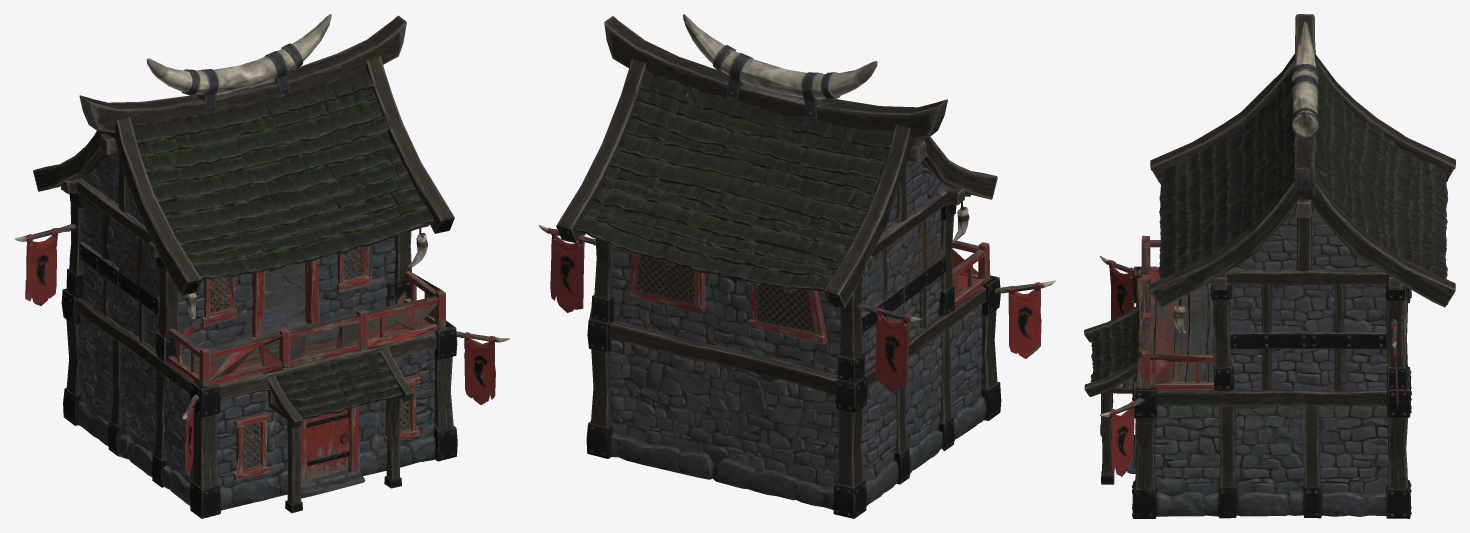
Rendered from house_stone_a.glb.
3 views of the same model, side by side, from view 1: azimuth 30°, elevation 25°; view 2: azimuth 150°, elevation 25°; view 3: azimuth 270°, elevation 25° (orthographic). The views are drawn at different scales.
Visible parts, largest first — view 1: house_stone_a; view 2: house_stone_a; view 3: house_stone_a.
Boxes of the visible parts, x1,y1,x2,y2 form: house_stone_a: (14,14,509,518); house_stone_a: (538,14,1055,518); house_stone_a: (1084,14,1455,518).
Size of the model in its own units: 8.32 by 8.5 by 7.36.
1 material, 1 textured.
